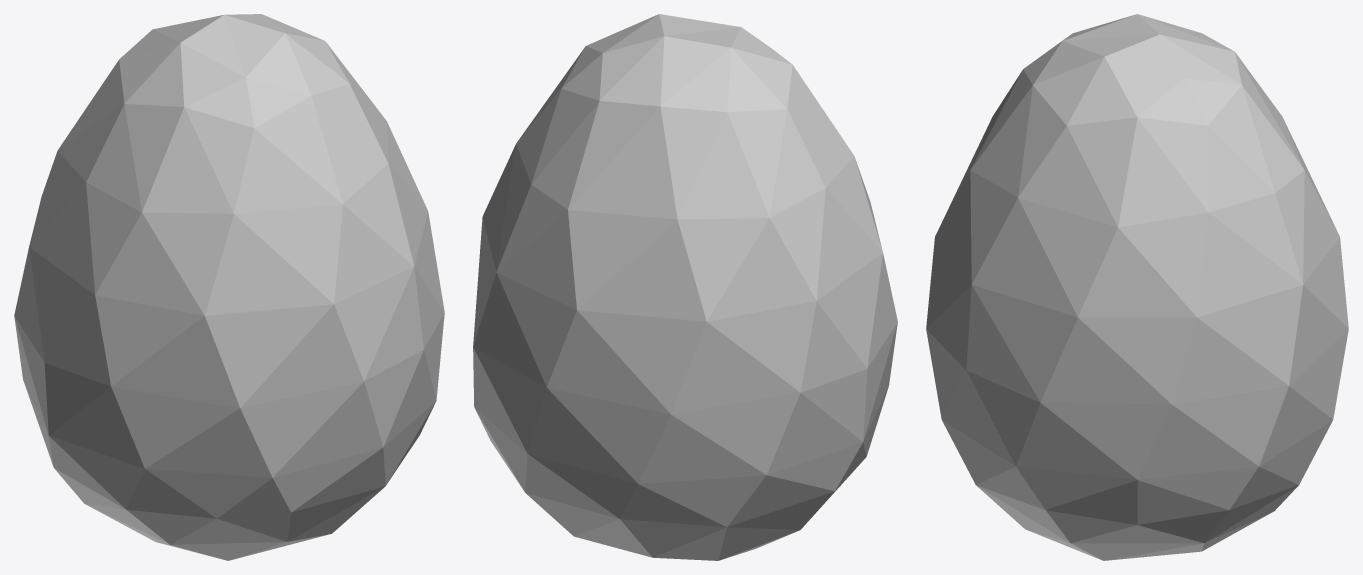
Rendered from Egg_Chicken.fbx.
3 renders of one model, left to right at view 1: azimuth 30°, elevation 25°; view 2: azimuth 150°, elevation 25°; view 3: azimuth 270°, elevation 25°, orthographic.
Visible parts, largest first — view 1: Egg_Chicken; view 2: Egg_Chicken; view 3: Egg_Chicken.
Part boxes in pixels (<box>): Egg_Chicken: <box>14,14,444,560</box>; Egg_Chicken: <box>473,14,897,560</box>; Egg_Chicken: <box>926,14,1348,560</box>.
Size of the model in its own units: 0.3409 by 0.4546 by 0.3409.
